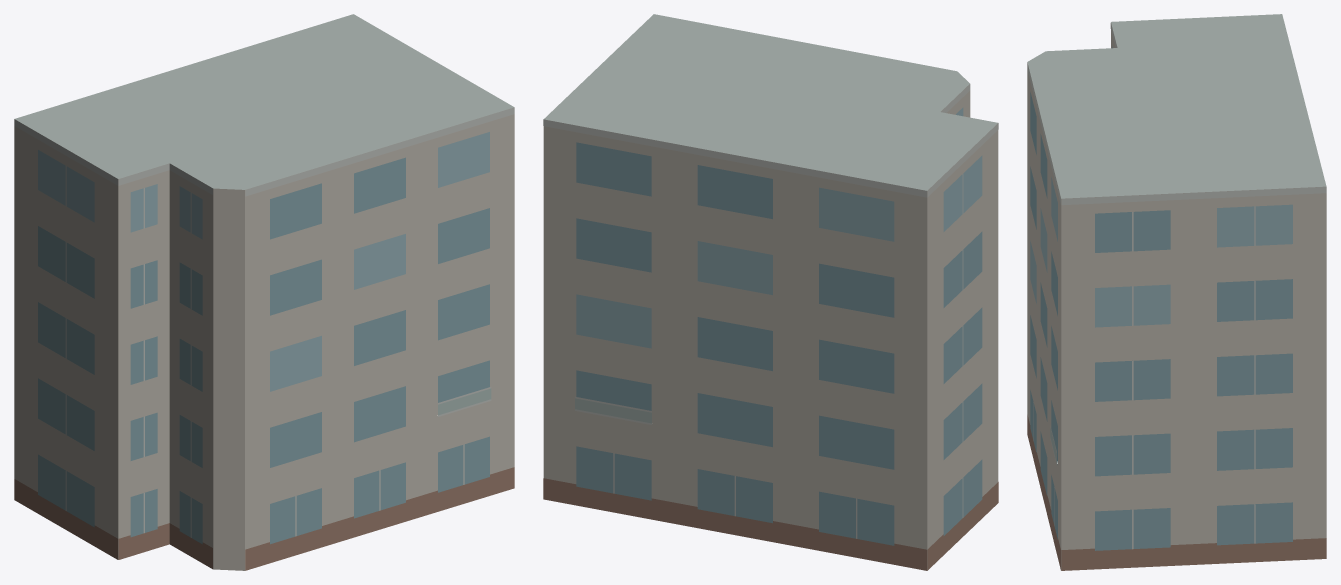
File: survey-upis-32892657.glb
3 renders of one model, left to right at view 1: azimuth 30°, elevation 25°; view 2: azimuth 150°, elevation 25°; view 3: azimuth 270°, elevation 25°, orthographic. The views are drawn at different scales.
Parts seen in each view (by area): view 1: survey-upis-32892657.tmp; view 2: survey-upis-32892657.tmp; view 3: survey-upis-32892657.tmp.
Boxes of the visible parts, x1,y1,x2,y2 form: survey-upis-32892657.tmp: (14,14,514,570); survey-upis-32892657.tmp: (543,14,998,570); survey-upis-32892657.tmp: (1027,14,1326,570).
Size of the model in its own units: 14.58 by 13.7 by 9.99.
